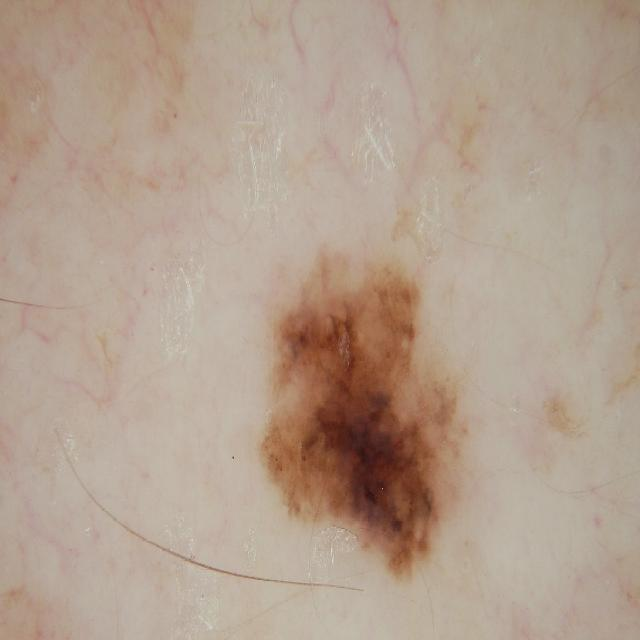Melanoma: (217, 213, 524, 605)
